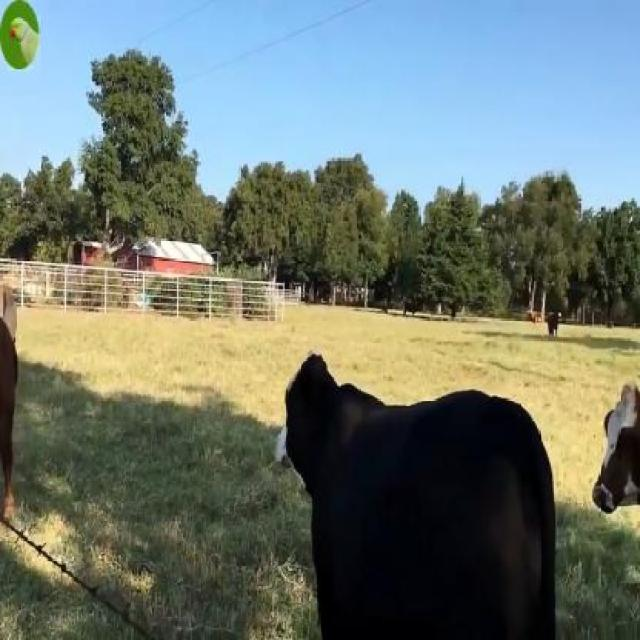Cow: (275, 352, 557, 638)
